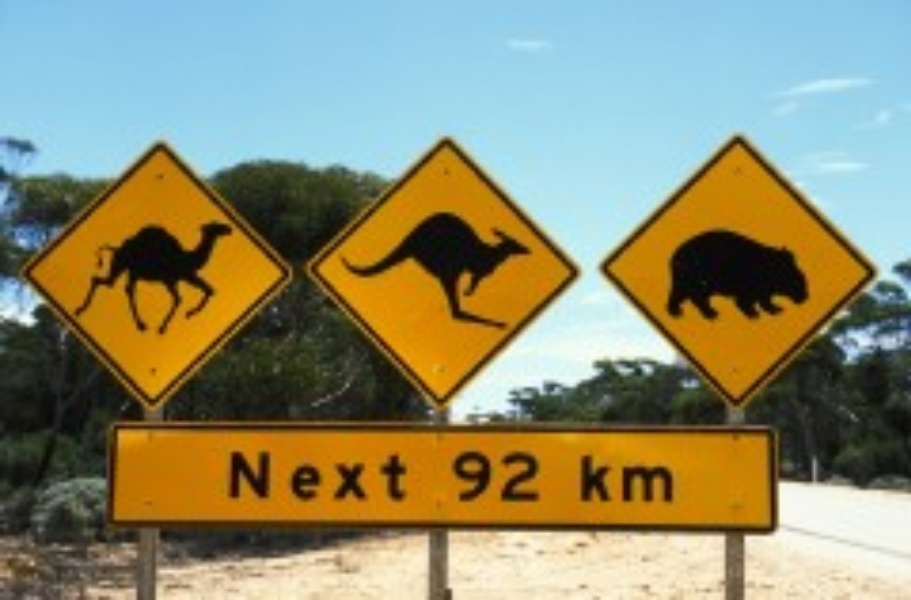text: (577, 452, 592, 506), (593, 452, 608, 506), (609, 452, 624, 506), (625, 452, 640, 506), (641, 452, 656, 506), (657, 452, 672, 506), (241, 449, 256, 502), (257, 449, 272, 502), (273, 449, 288, 502), (289, 449, 304, 502), (305, 449, 320, 502), (321, 449, 336, 502), (337, 449, 352, 502), (353, 449, 368, 502), (369, 449, 384, 502), (385, 449, 400, 502), (449, 449, 464, 502), (465, 449, 480, 502), (481, 449, 496, 502), (497, 449, 512, 502), (513, 449, 528, 502), (529, 449, 543, 502), (401, 449, 414, 502), (228, 449, 240, 502), (673, 452, 676, 506)
